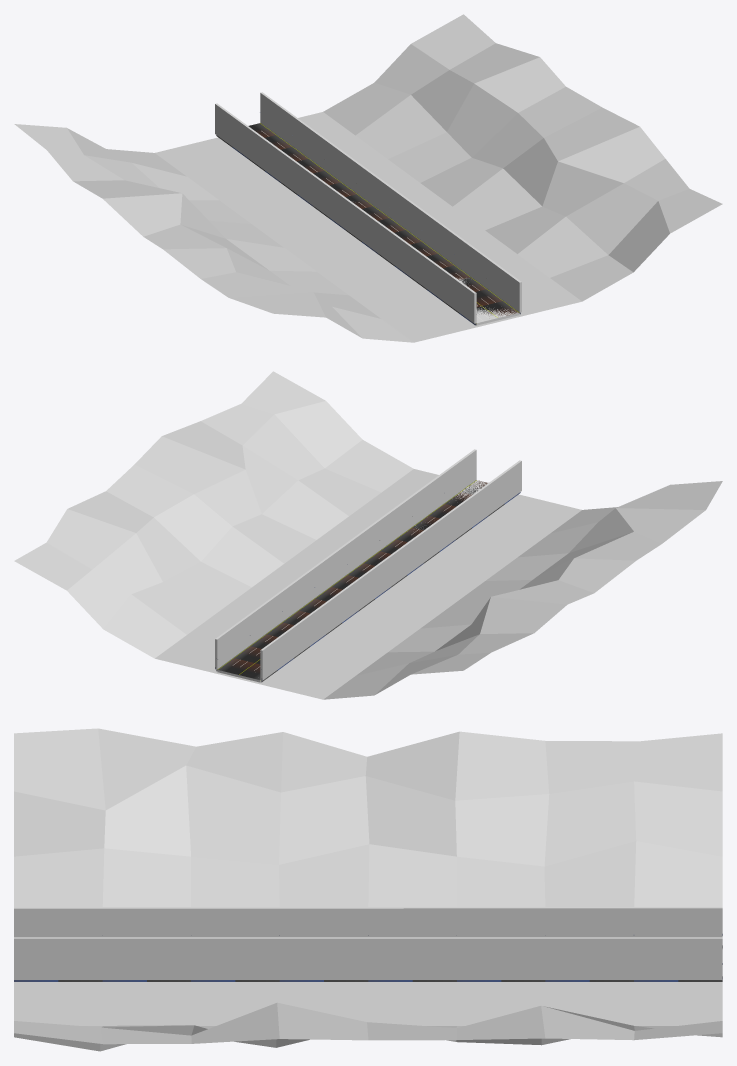
Rendered from RoadLevel2.fbx.
3 renders of one model, top to bottom at view 1: azimuth 30°, elevation 25°; view 2: azimuth 150°, elevation 25°; view 3: azimuth 270°, elevation 25°, orthographic. The views are drawn at different scales.
Visible parts, largest first — view 1: RoadLevel2, RoadLevel2_cldr_walls; view 2: RoadLevel2, RoadLevel2_cldr_walls; view 3: RoadLevel2, RoadLevel2_cldr_walls.
Boxes of the visible parts, x1,y1,x2,y2 form: RoadLevel2: [14, 14, 722, 342]; RoadLevel2_cldr_walls: [215, 92, 521, 323]; RoadLevel2: [14, 371, 722, 699]; RoadLevel2_cldr_walls: [215, 449, 521, 680]; RoadLevel2: [14, 728, 722, 1051]; RoadLevel2_cldr_walls: [14, 907, 722, 979].
Size of the model in its own units: 426 by 56.19 by 400.
